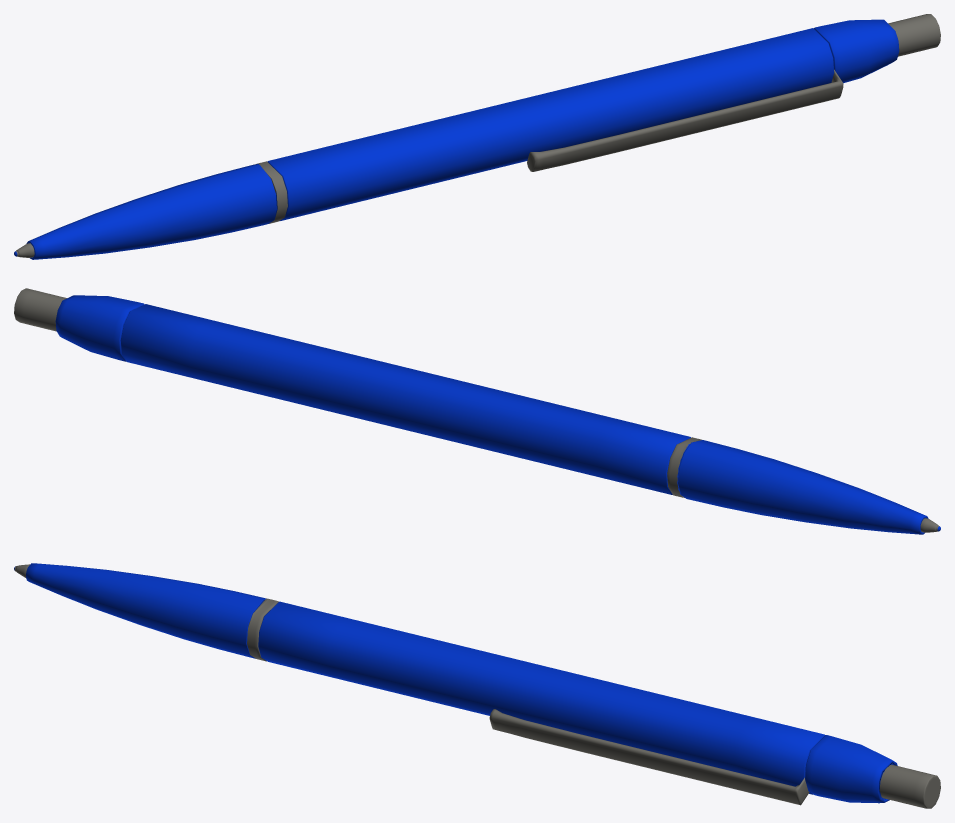
File: Kuli_MPI01_fbx.fbx
3 views of the same model, one above another, from view 1: azimuth 30°, elevation 25°; view 2: azimuth 150°, elevation 25°; view 3: azimuth 330°, elevation 25° (orthographic).
Visible parts, largest first — view 1: Kuli; view 2: Kuli; view 3: Kuli.
Part boxes in pixels (x1,y1,x2,y2): Kuli: [14, 14, 940, 259]; Kuli: [14, 288, 940, 534]; Kuli: [14, 563, 940, 808].
Bounding box in the file's own units: 16.76 × 0.9691 × 1.23.
